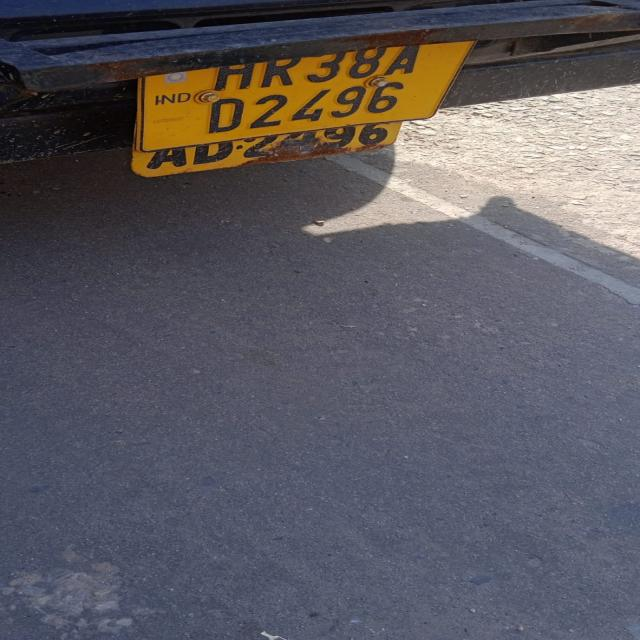License-plate: (159, 38, 449, 126)
